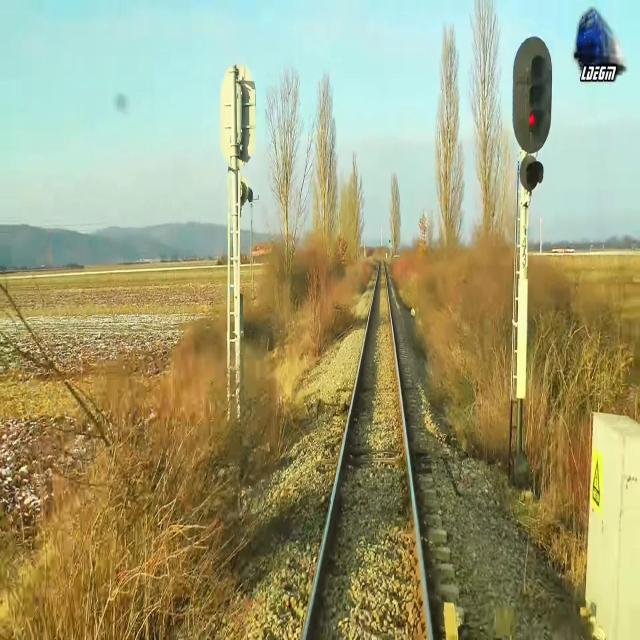rail-track: (306, 260, 427, 639)
